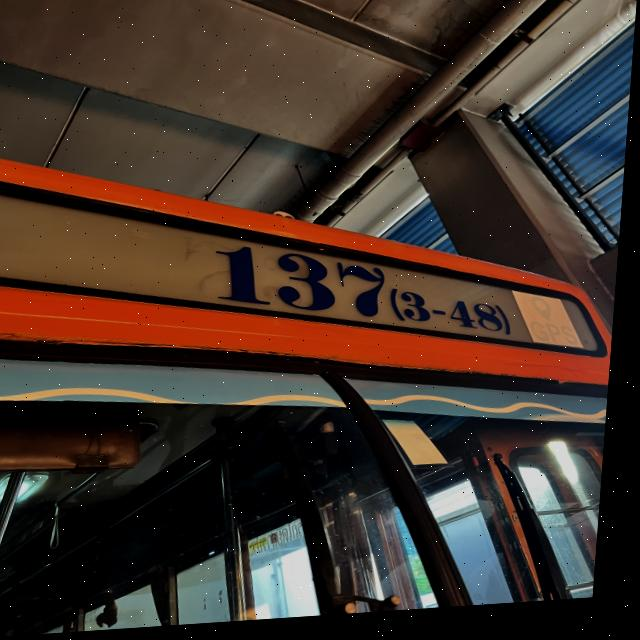BMTA-bus: (0, 156, 618, 638)
Bus Line Number: (202, 234, 531, 347)
